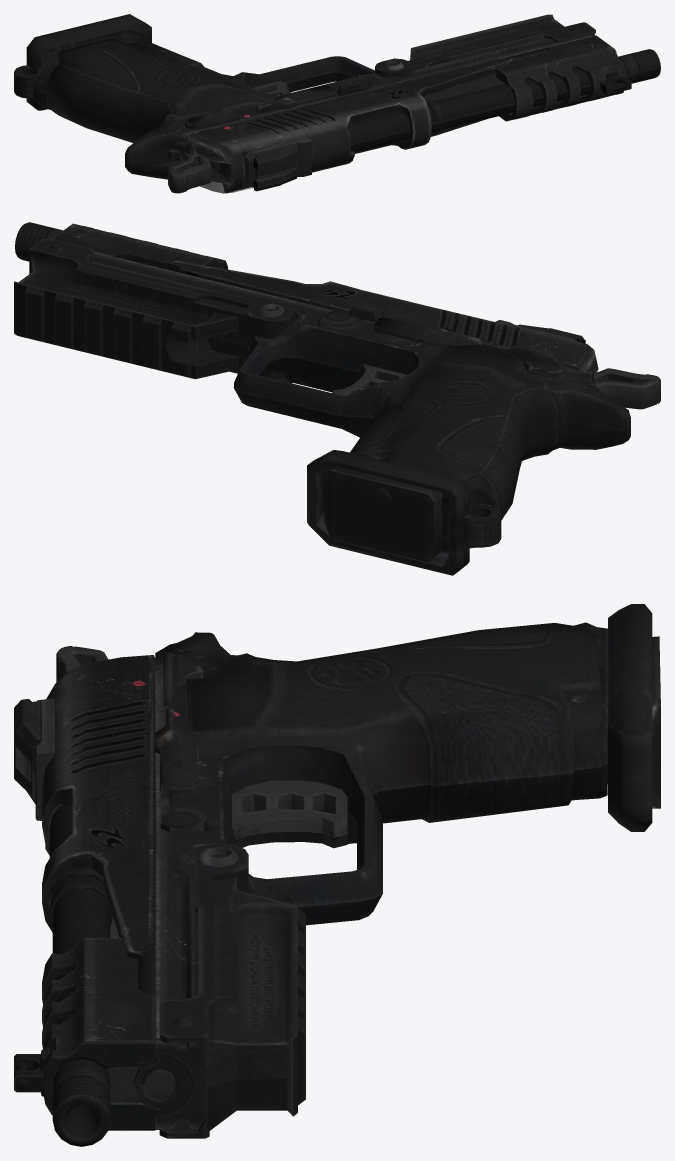
The model's file is t6_wpn_pistol_b2023r_view_lh_LOD0.obj.
3 renders of one model, top to bottom at view 1: azimuth 30°, elevation 25°; view 2: azimuth 150°, elevation 25°; view 3: azimuth 270°, elevation 25°, orthographic. The views are drawn at different scales.
Visible parts, largest first — view 1: mtl_t6_wpn_pistol_b2023r, mtl_t6_wpn_pistol_b2023r_camo3, mtl_t6_wpn_pistol_b2023r_camo1, mtl_t6_wpn_pistol_b2023r_camo2; view 2: mtl_t6_wpn_pistol_b2023r, mtl_t6_wpn_pistol_b2023r_camo3, mtl_t6_wpn_pistol_b2023r_camo2, mtl_t6_wpn_pistol_b2023r_camo1; view 3: mtl_t6_wpn_pistol_b2023r, mtl_t6_wpn_pistol_b2023r_camo3, mtl_t6_wpn_pistol_b2023r_camo2, mtl_t6_wpn_pistol_b2023r_camo1.
Boxes of the visible parts, <box> form: mtl_t6_wpn_pistol_b2023r: <box>14,14,625,191</box>; mtl_t6_wpn_pistol_b2023r_camo3: <box>26,14,660,193</box>; mtl_t6_wpn_pistol_b2023r_camo1: <box>186,48,625,193</box>; mtl_t6_wpn_pistol_b2023r_camo2: <box>193,35,614,142</box>; mtl_t6_wpn_pistol_b2023r: <box>14,238,630,562</box>; mtl_t6_wpn_pistol_b2023r_camo3: <box>15,222,660,575</box>; mtl_t6_wpn_pistol_b2023r_camo2: <box>52,223,586,559</box>; mtl_t6_wpn_pistol_b2023r_camo1: <box>84,226,598,378</box>; mtl_t6_wpn_pistol_b2023r: <box>14,622,660,1138</box>; mtl_t6_wpn_pistol_b2023r_camo3: <box>14,604,652,1146</box>; mtl_t6_wpn_pistol_b2023r_camo2: <box>84,636,660,1040</box>; mtl_t6_wpn_pistol_b2023r_camo1: <box>39,655,159,1130</box>.
Bounding box in the file's own units: 33.53 × 4.93 × 19.31.
